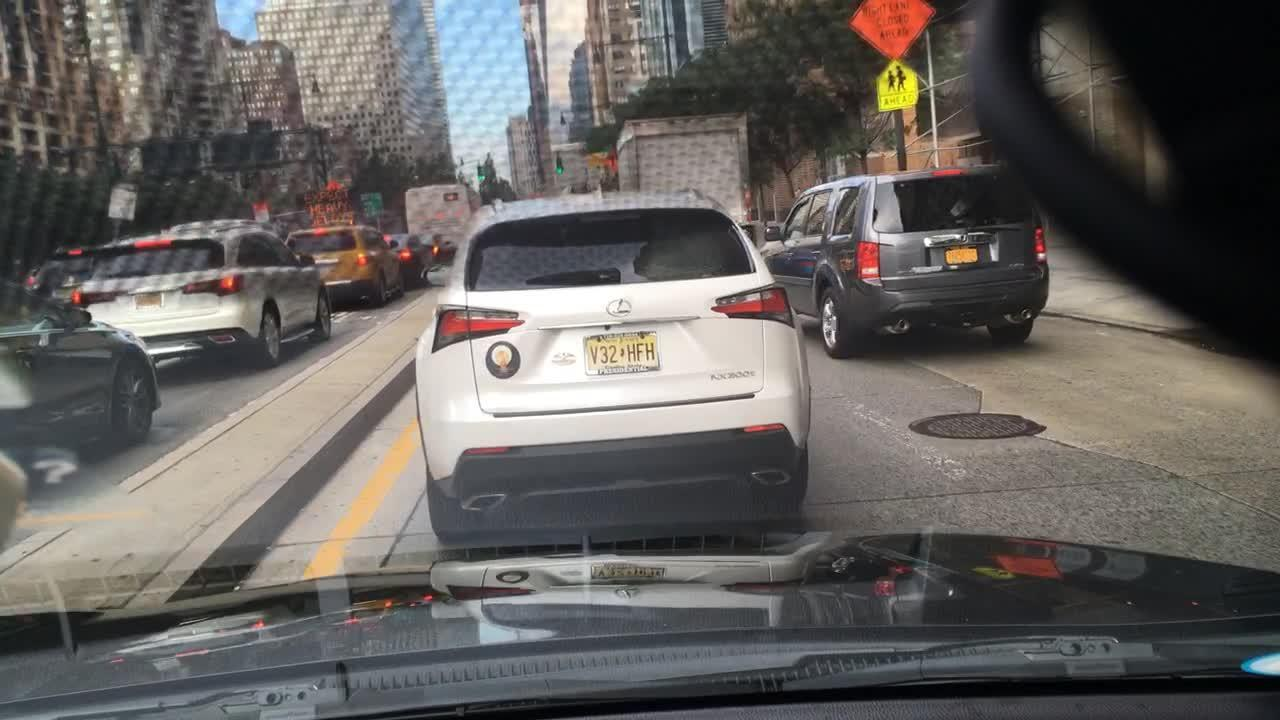Honda: (954, 230, 970, 247)
lexus: (593, 288, 640, 326)
